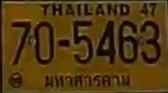0: (33, 20, 53, 63)
3: (140, 20, 160, 63)
4: (96, 19, 114, 64)
5: (72, 20, 92, 63)
6: (118, 20, 137, 63)
7: (10, 20, 30, 64)
MKM: (43, 70, 134, 90)
